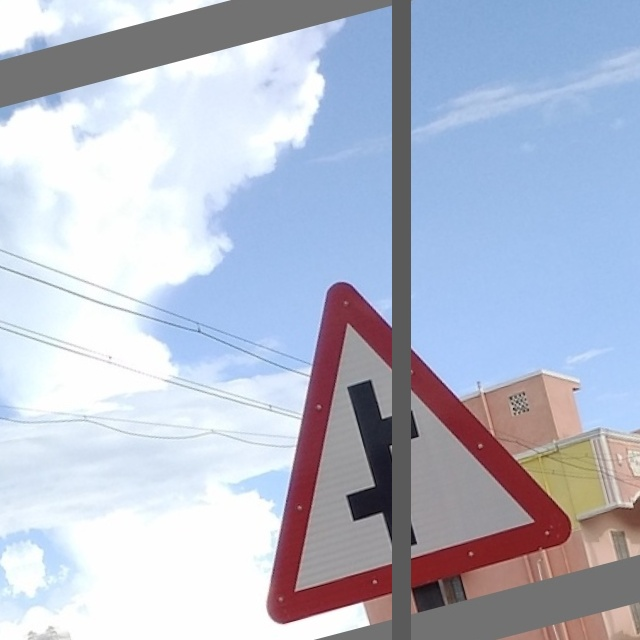Staggered_Intersection: (175, 216, 577, 634)
